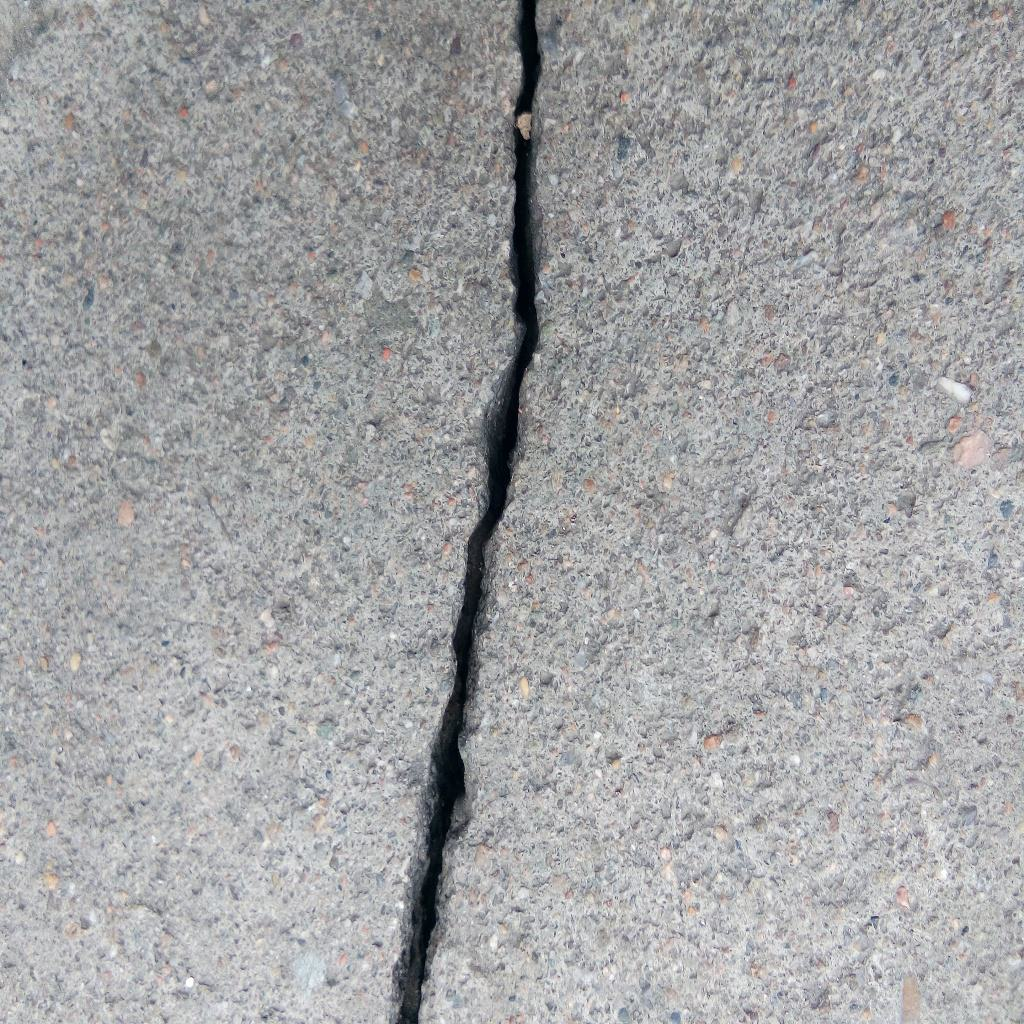Crack: (388, 1, 548, 1024)
